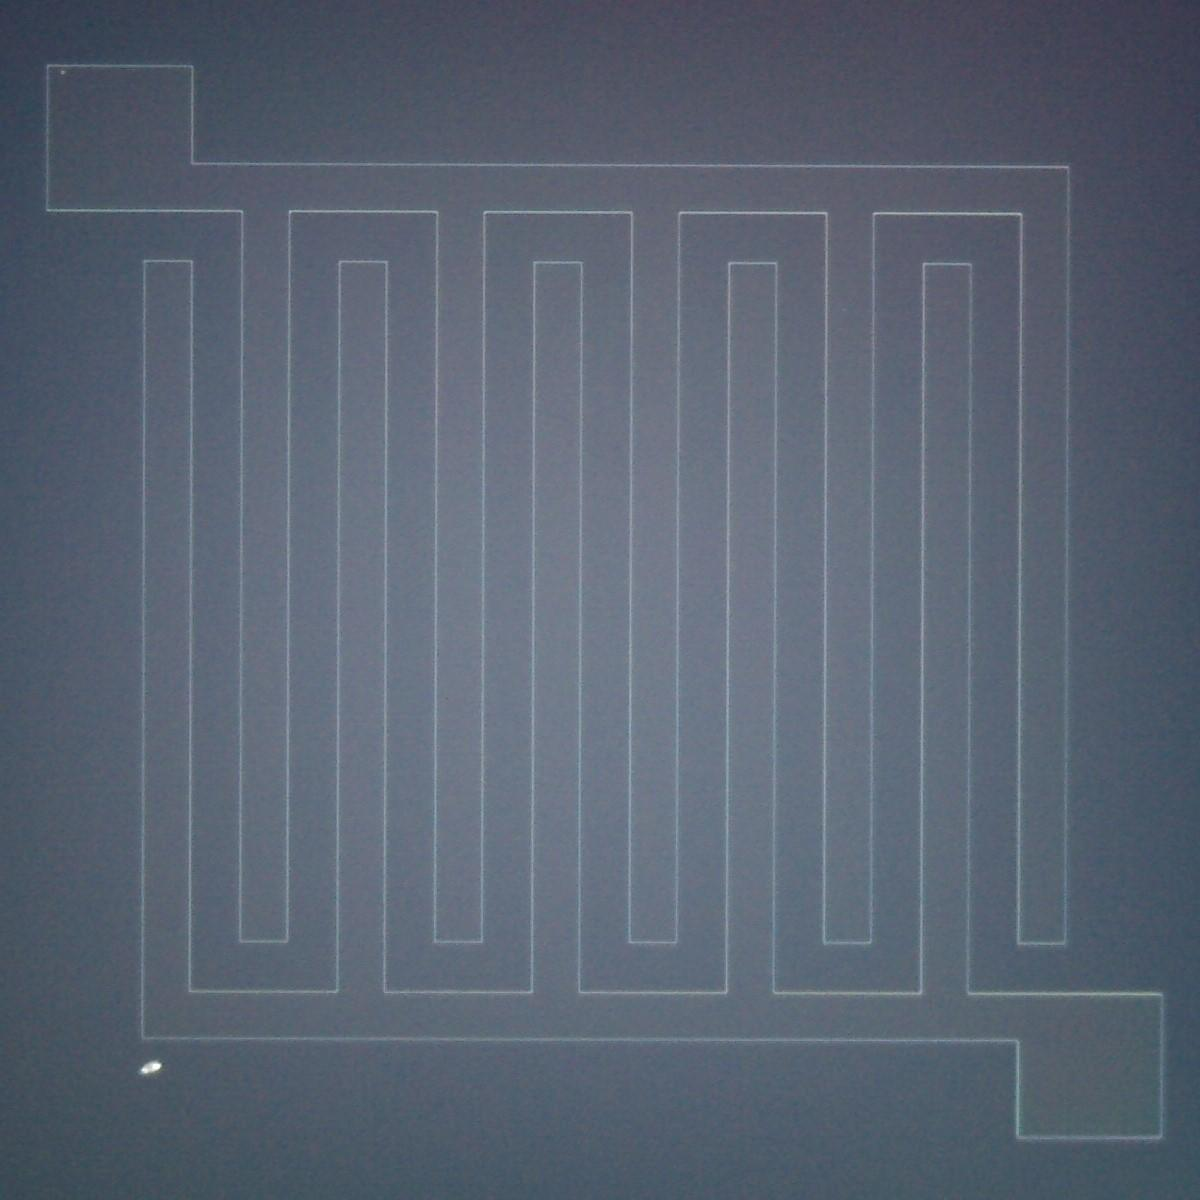B_point: (136, 1056, 166, 1079)
